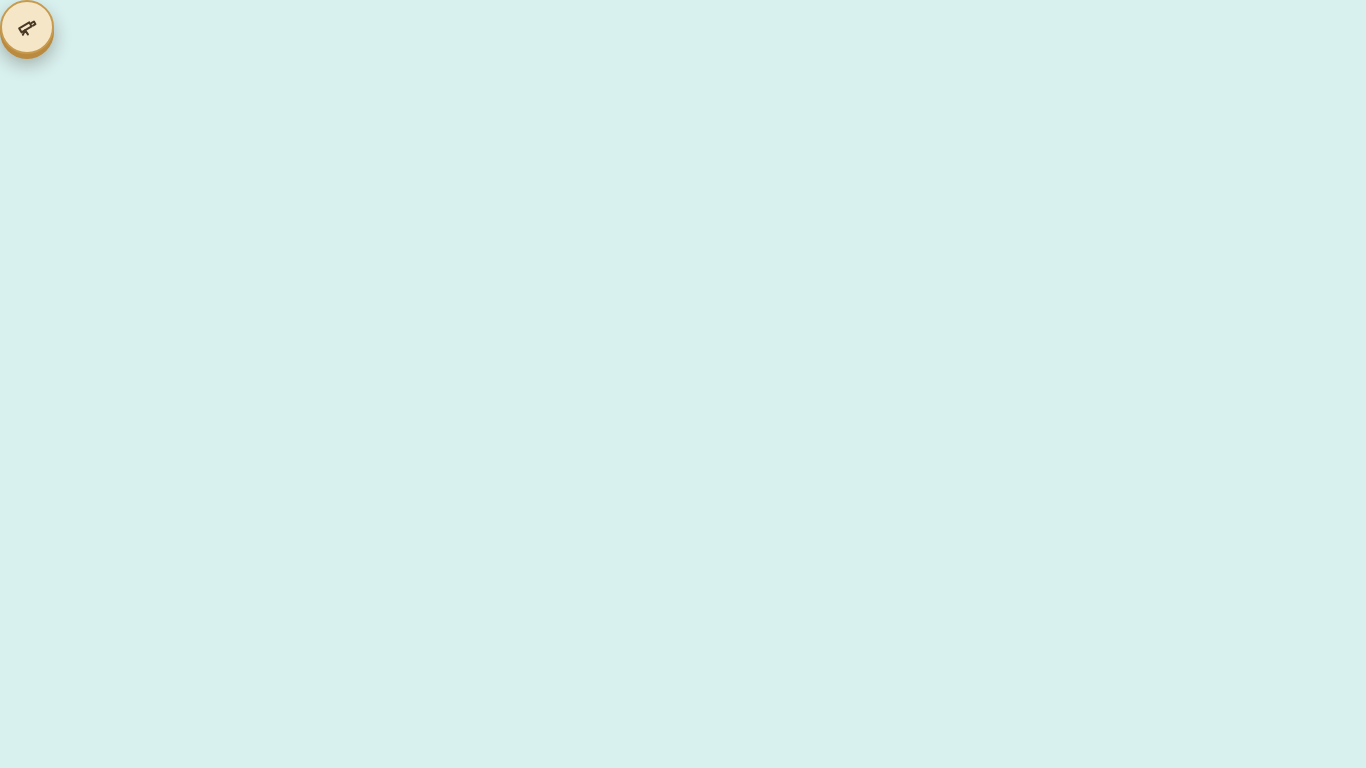
ScoutControl › is disabled in the browser preview
Later steps or results of the test are not shown.
What coordinates should you click on to do the following:
click the button named "Scout for threats"
I would click on:
 (27, 27)
Its box is [0, 0, 54, 54].
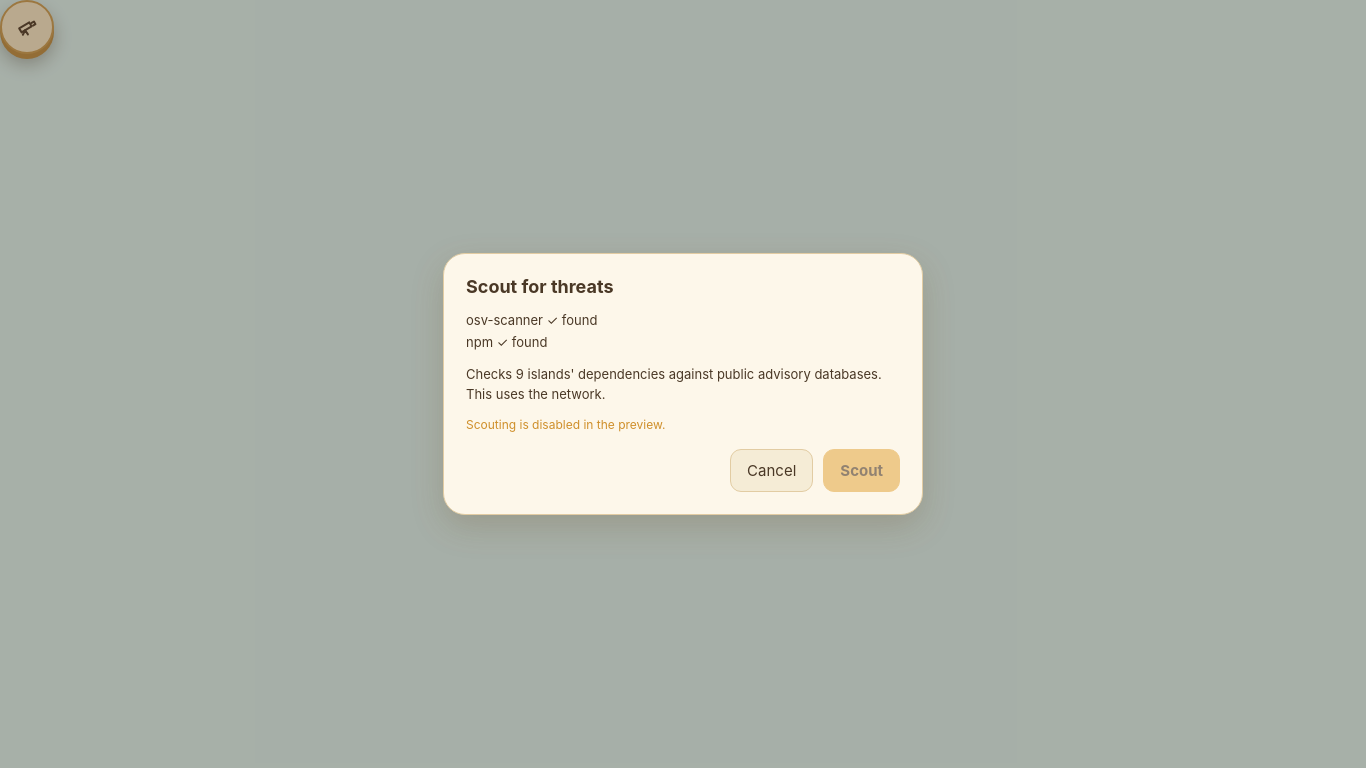
Now the button "Scout" is disabled, box [823, 449, 900, 492]
Now the dialog shows "Scouting is disabled in the preview.", box [466, 417, 665, 432]
